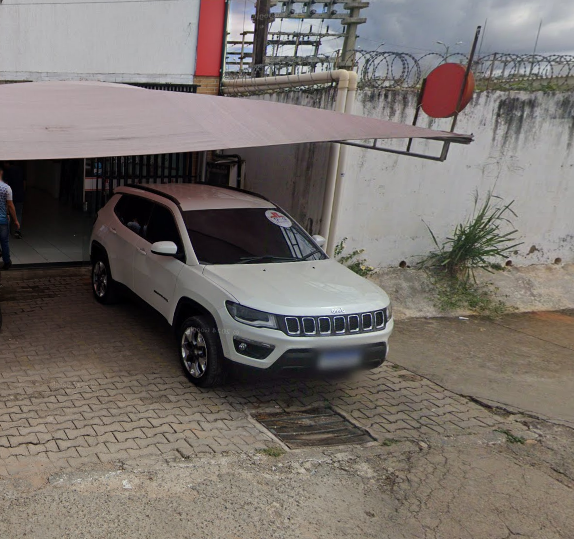car: (82, 172, 400, 397)
